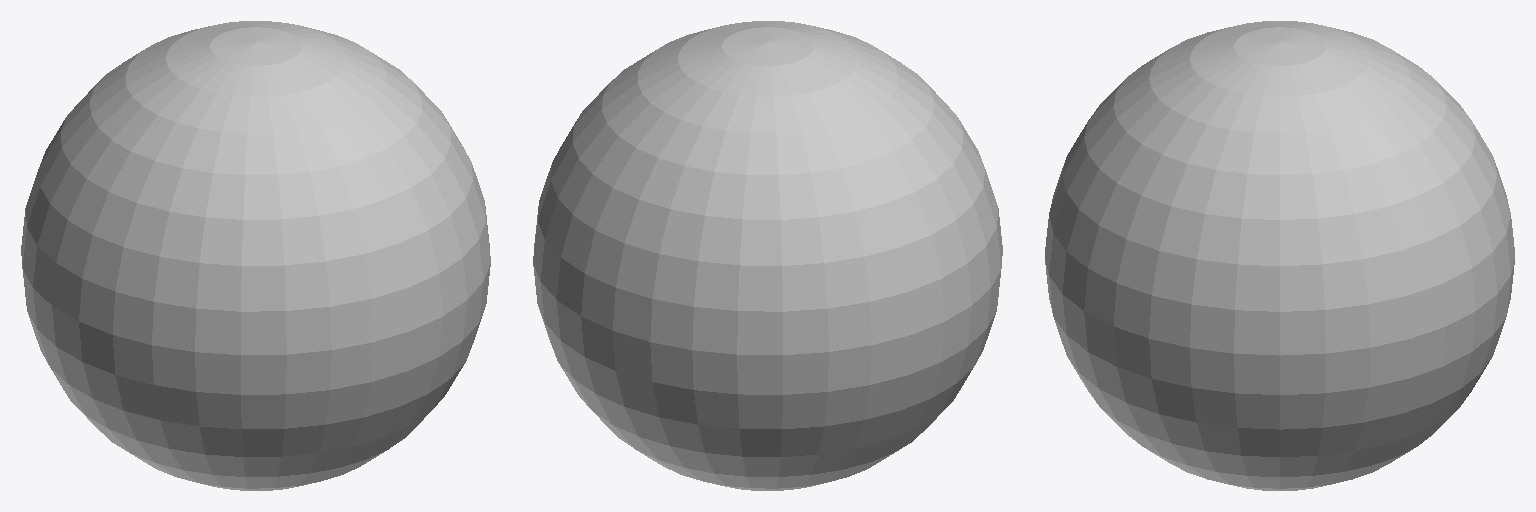
The model's file is sphereUV.obj.
3 views of the same model, side by side, from view 1: azimuth 30°, elevation 25°; view 2: azimuth 150°, elevation 25°; view 3: azimuth 270°, elevation 25° (orthographic).
Visible parts, largest first — view 1: Sphere.001; view 2: Sphere.001; view 3: Sphere.001.
Part boxes in pixels (x1,y1,x2,y2): Sphere.001: (21,21,490,490); Sphere.001: (533,21,1002,490); Sphere.001: (1045,21,1514,490).
Bounding box in the file's own units: 2 × 2 × 2.